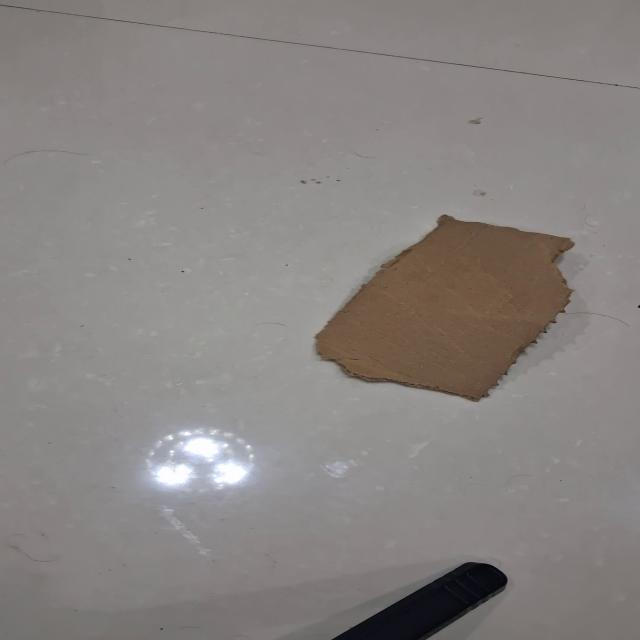paper: (312, 213, 576, 402)
